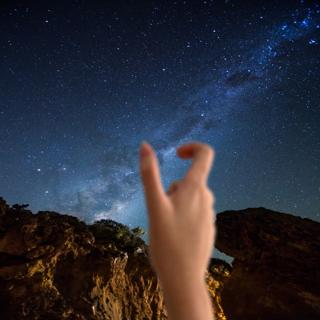HATE: (128, 137, 223, 314)
